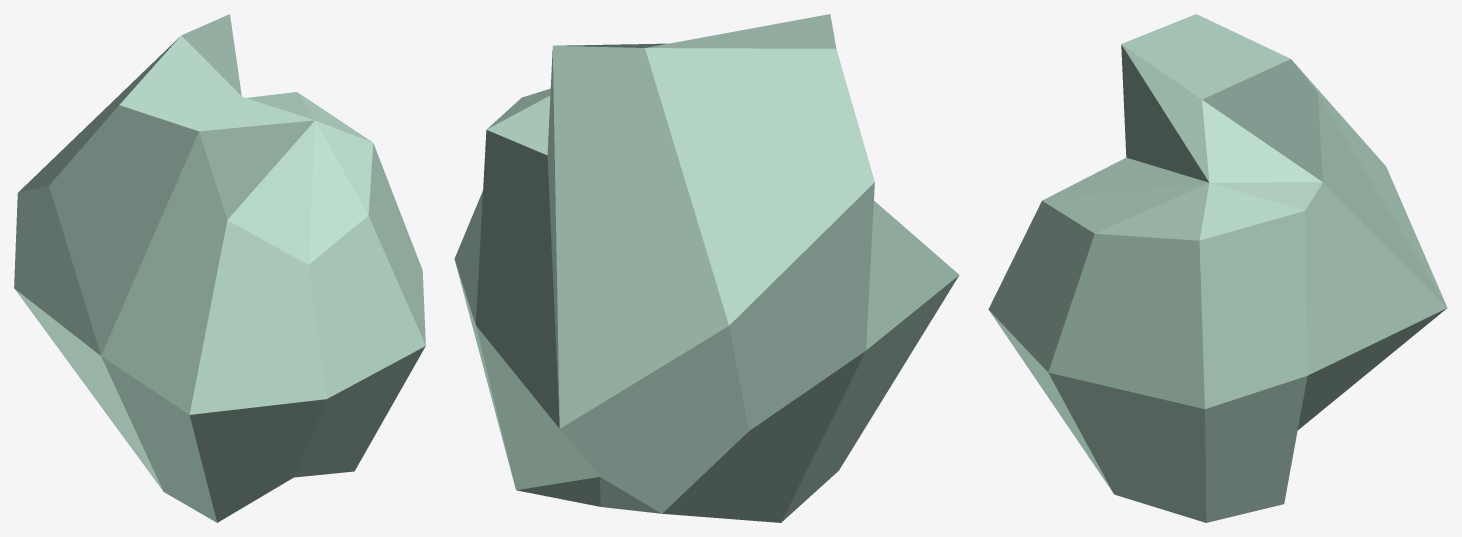
File: Rock3.FBX
3 views of the same model, side by side, from view 1: azimuth 30°, elevation 25°; view 2: azimuth 150°, elevation 25°; view 3: azimuth 270°, elevation 25° (orthographic). The views are drawn at different scales.
Visible parts, largest first — view 1: Sphere003; view 2: Sphere003; view 3: Sphere003.
Boxes of the visible parts, bbox=[...] form: Sphere003: bbox=[14, 14, 425, 522]; Sphere003: bbox=[454, 14, 959, 522]; Sphere003: bbox=[988, 14, 1447, 522].
Bounding box in the file's own units: 52.89 × 57.3 × 58.44.
